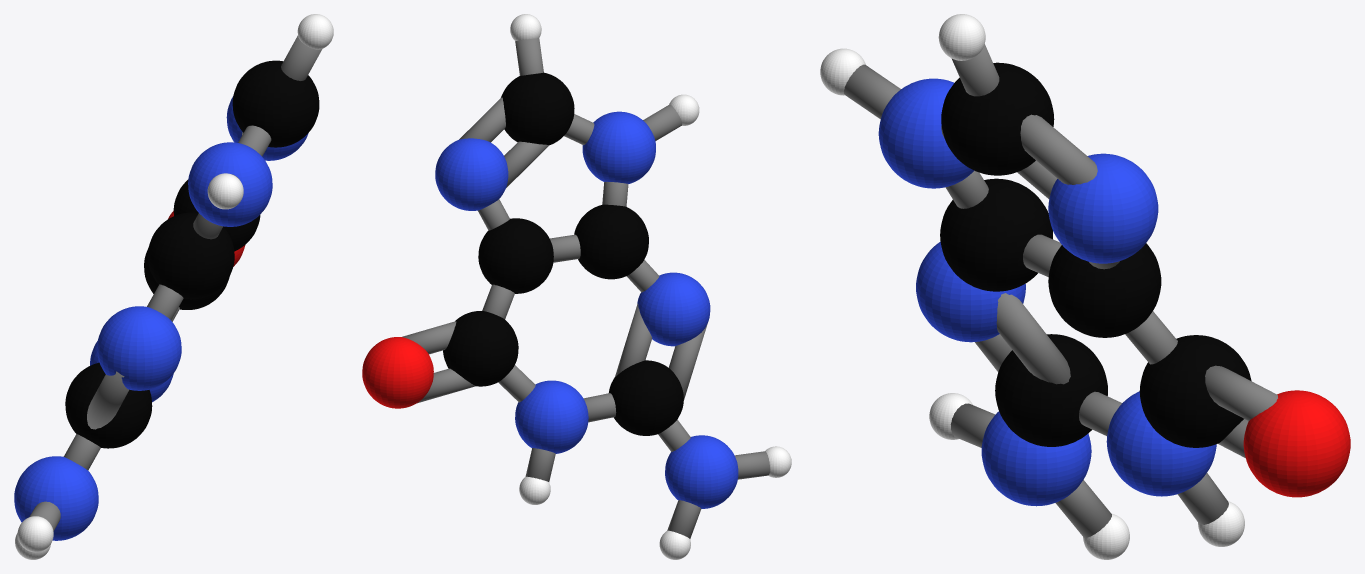
Rendered from GUANINA.obj.
3 renders of one model, left to right at view 1: azimuth 30°, elevation 25°; view 2: azimuth 150°, elevation 25°; view 3: azimuth 270°, elevation 25°, orthographic. The views are drawn at different scales.
Visible parts, largest first — view 1: Carbon_ball_Sphere.001, Nitrogen_ball_Sphere.002, Hydrogen_ball_Sphere, Stick_Cylinder.017_Cylinder.017, Stick_Cylinder_Cylinder, Stick_Cylinder.006_Cylinder.006, Stick_Cylinder.003_Cylinder.003, Stick_Cylinder.009_Cylinder.009, Stick_Cylinder.004_Cylinder.004, Stick_Cylinder.002_Cylinder.002; view 2: Carbon_ball_Sphere.001, Nitrogen_ball_Sphere.002, Oxygen_ball_Sphere.003, Hydrogen_ball_Sphere, Stick_Cylinder.015_Cylinder.015, Stick_Cylinder.017_Cylinder.017, Stick_Cylinder.013_Cylinder.013, Stick_Cylinder.019_Cylinder.019, Stick_Cylinder.007_Cylinder.007, Stick_Cylinder.018_Cylinder.018, Stick_Cylinder_Cylinder, Stick_Cylinder.005_Cylinder.005 (+12 smaller); view 3: Carbon_ball_Sphere.001, Nitrogen_ball_Sphere.002, Oxygen_ball_Sphere.003, Hydrogen_ball_Sphere, Stick_Cylinder.015_Cylinder.015, Stick_Cylinder.013_Cylinder.013, Stick_Cylinder.007_Cylinder.007, Stick_Cylinder.005_Cylinder.005, Stick_Cylinder.010_Cylinder.010, Stick_Cylinder.011_Cylinder.011, Stick_Cylinder.008_Cylinder.008, Stick_Cylinder_Cylinder (+6 smaller).
Boxes of the visible parts, bbox=[...] form: Carbon_ball_Sphere.001: bbox=[65, 60, 319, 448]; Nitrogen_ball_Sphere.002: bbox=[14, 96, 308, 540]; Hydrogen_ball_Sphere: bbox=[15, 14, 333, 559]; Stick_Cylinder.017_Cylinder.017: bbox=[87, 371, 128, 429]; Stick_Cylinder_Cylinder: bbox=[281, 35, 322, 80]; Stick_Cylinder.006_Cylinder.006: bbox=[63, 434, 100, 470]; Stick_Cylinder.003_Cylinder.003: bbox=[147, 284, 183, 320]; Stick_Cylinder.009_Cylinder.009: bbox=[238, 125, 271, 156]; Stick_Cylinder.004_Cylinder.004: bbox=[29, 501, 60, 531]; Stick_Cylinder.002_Cylinder.002: bbox=[193, 213, 223, 239]; Carbon_ball_Sphere.001: bbox=[443, 72, 683, 435]; Nitrogen_ball_Sphere.002: bbox=[435, 111, 738, 508]; Oxygen_ball_Sphere.003: bbox=[362, 337, 433, 408]; Hydrogen_ball_Sphere: bbox=[510, 14, 791, 559]; Stick_Cylinder.015_Cylinder.015: bbox=[615, 303, 652, 376]; Stick_Cylinder.017_Cylinder.017: bbox=[668, 323, 707, 400]; Stick_Cylinder.013_Cylinder.013: bbox=[459, 97, 505, 142]; Stick_Cylinder.019_Cylinder.019: bbox=[504, 141, 549, 187]; Stick_Cylinder.007_Cylinder.007: bbox=[402, 321, 456, 354]; Stick_Cylinder.018_Cylinder.018: bbox=[417, 368, 475, 403]; Stick_Cylinder_Cylinder: bbox=[515, 38, 543, 75]; Stick_Cylinder.005_Cylinder.005: bbox=[667, 500, 701, 538]; Carbon_ball_Sphere.001: bbox=[940, 62, 1251, 447]; Nitrogen_ball_Sphere.002: bbox=[878, 78, 1216, 506]; Oxygen_ball_Sphere.003: bbox=[1243, 390, 1350, 497]; Hydrogen_ball_Sphere: bbox=[820, 14, 1244, 559]; Stick_Cylinder.015_Cylinder.015: bbox=[996, 293, 1070, 384]; Stick_Cylinder.013_Cylinder.013: bbox=[1020, 114, 1097, 184]; Stick_Cylinder.007_Cylinder.007: bbox=[1205, 365, 1277, 420]; Stick_Cylinder.005_Cylinder.005: bbox=[1055, 480, 1111, 537]; Stick_Cylinder.010_Cylinder.010: bbox=[844, 64, 900, 119]; Stick_Cylinder.011_Cylinder.011: bbox=[1125, 311, 1177, 364]; Stick_Cylinder.008_Cylinder.008: bbox=[1177, 473, 1228, 524]; Stick_Cylinder_Cylinder: bbox=[951, 44, 999, 96].
Bounding box in the file's own units: 5.77 × 8.25 × 5.78.
